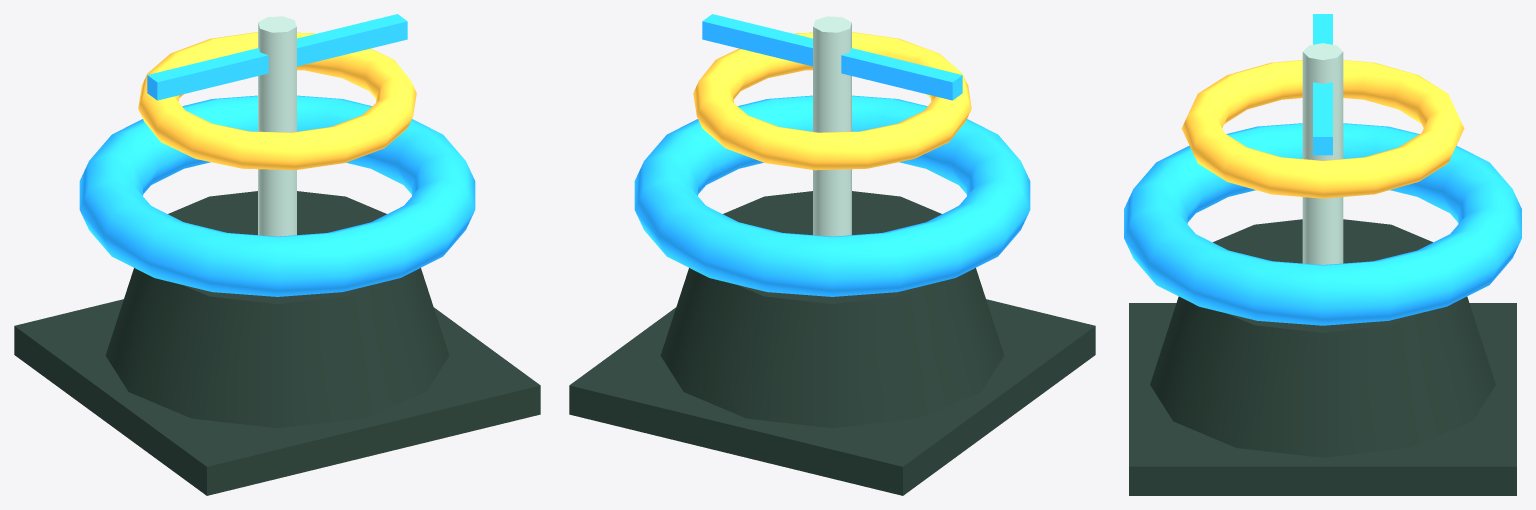
Rendered from frequency-controller.glb.
3 views of the same model, side by side, from view 1: azimuth 30°, elevation 25°; view 2: azimuth 150°, elevation 25°; view 3: azimuth 270°, elevation 25° (orthographic).
Visible parts, largest first — view 1: body-controller, spin-z-ring-outer, base-footprint, spin-z-ring-inner, mast-frequency, pulse-stabilizer-bar; view 2: body-controller, spin-z-ring-outer, base-footprint, spin-z-ring-inner, mast-frequency, pulse-stabilizer-bar; view 3: body-controller, spin-z-ring-outer, base-footprint, spin-z-ring-inner, mast-frequency, pulse-stabilizer-bar.
Part boxes in pixels (<box>): body-controller: <box>105,191,449,428</box>; spin-z-ring-outer: <box>79,95,475,296</box>; base-footprint: <box>14,299,540,495</box>; spin-z-ring-inner: <box>138,32,416,170</box>; mast-frequency: <box>258,16,296,236</box>; pulse-stabilizer-bar: <box>147,14,407,100</box>; body-controller: <box>660,191,1004,428</box>; spin-z-ring-outer: <box>634,95,1030,296</box>; base-footprint: <box>569,299,1095,495</box>; spin-z-ring-inner: <box>693,32,971,170</box>; mast-frequency: <box>813,16,851,236</box>; pulse-stabilizer-bar: <box>702,14,962,100</box>; body-controller: <box>1150,219,1495,457</box>; spin-z-ring-outer: <box>1124,123,1521,325</box>; base-footprint: <box>1129,303,1516,495</box>; spin-z-ring-inner: <box>1181,60,1464,198</box>; mast-frequency: <box>1302,43,1343,264</box>; pulse-stabilizer-bar: <box>1313,14,1332,155</box>.
Size of the model in its own units: 1 by 0.99 by 0.9848.
